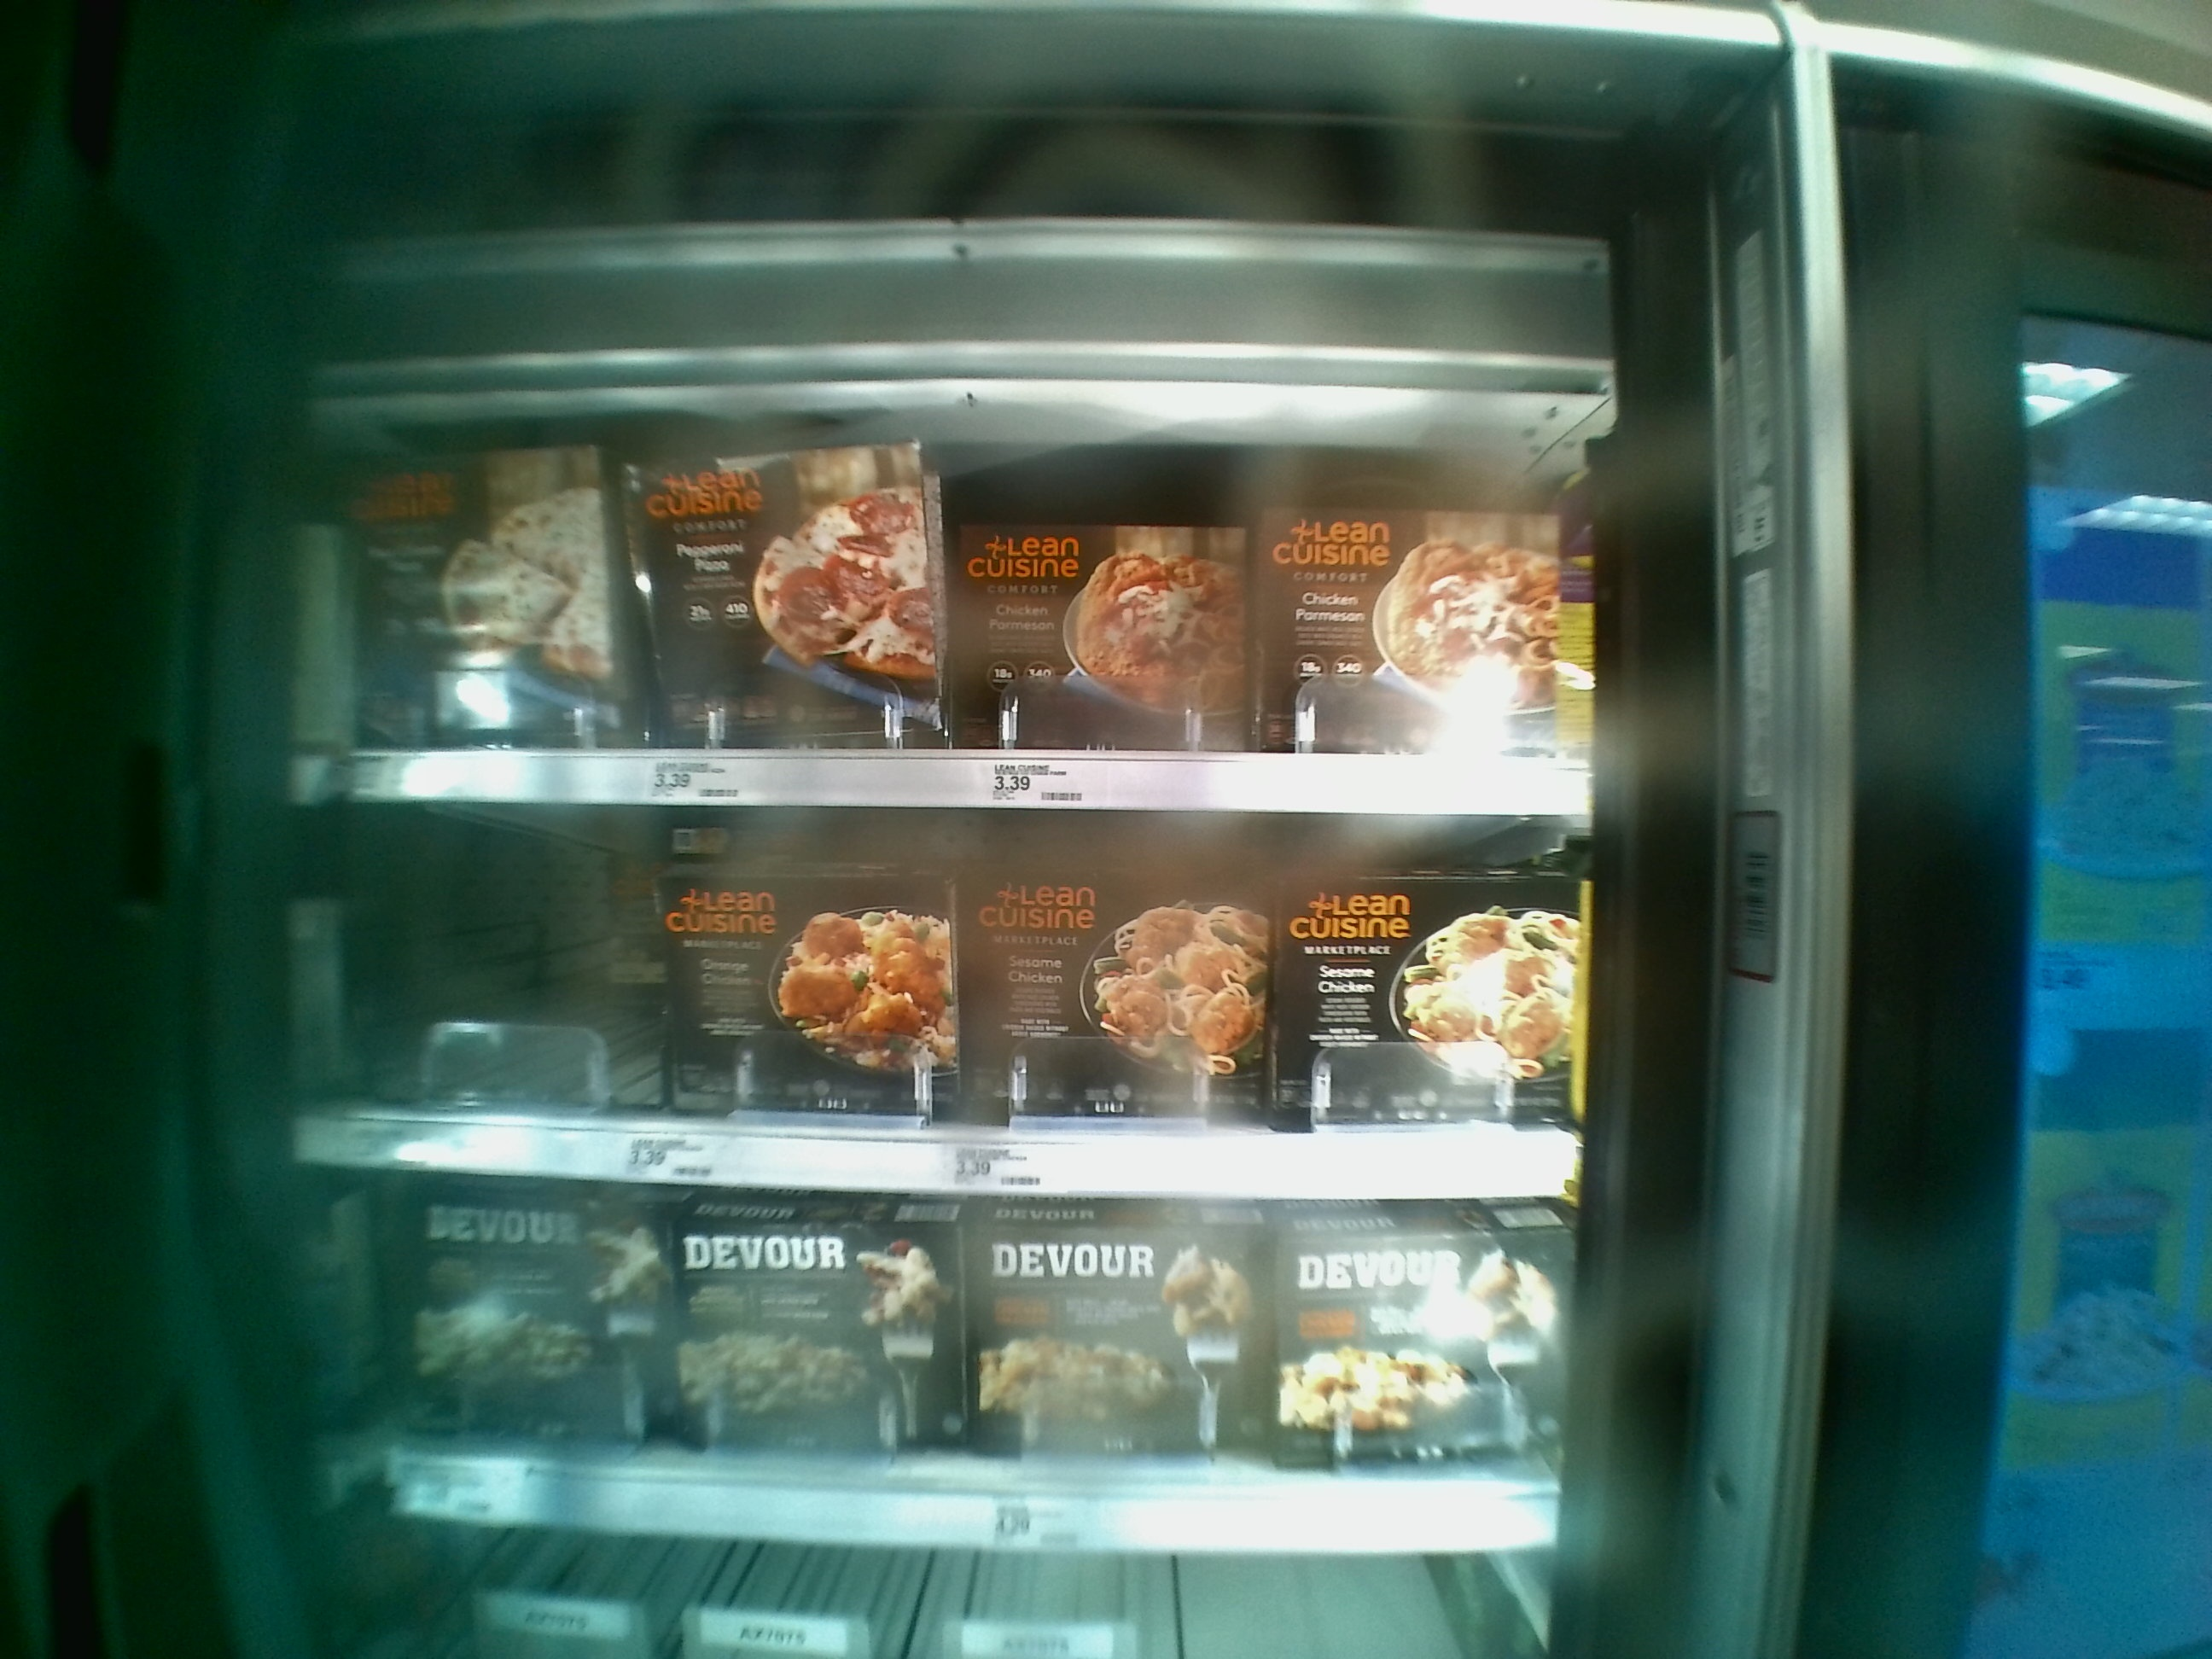Shelf: (326, 392, 1588, 817), (324, 807, 1583, 1202), (310, 1171, 1559, 1556)
